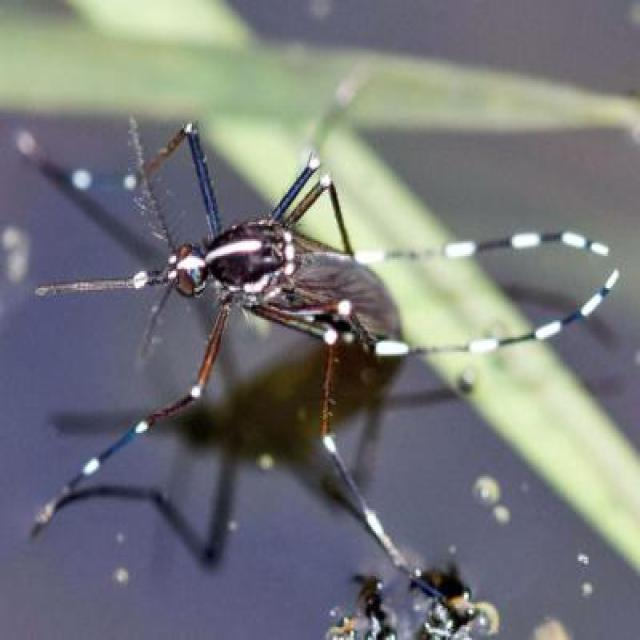antennae: (120, 117, 181, 253), (127, 279, 182, 378)
body: (171, 212, 402, 346)
insect: (30, 115, 614, 607)
legs: (37, 304, 465, 612), (355, 214, 617, 370), (138, 121, 362, 244)
mouthpart: (32, 252, 180, 309)
wings: (293, 246, 406, 342)
